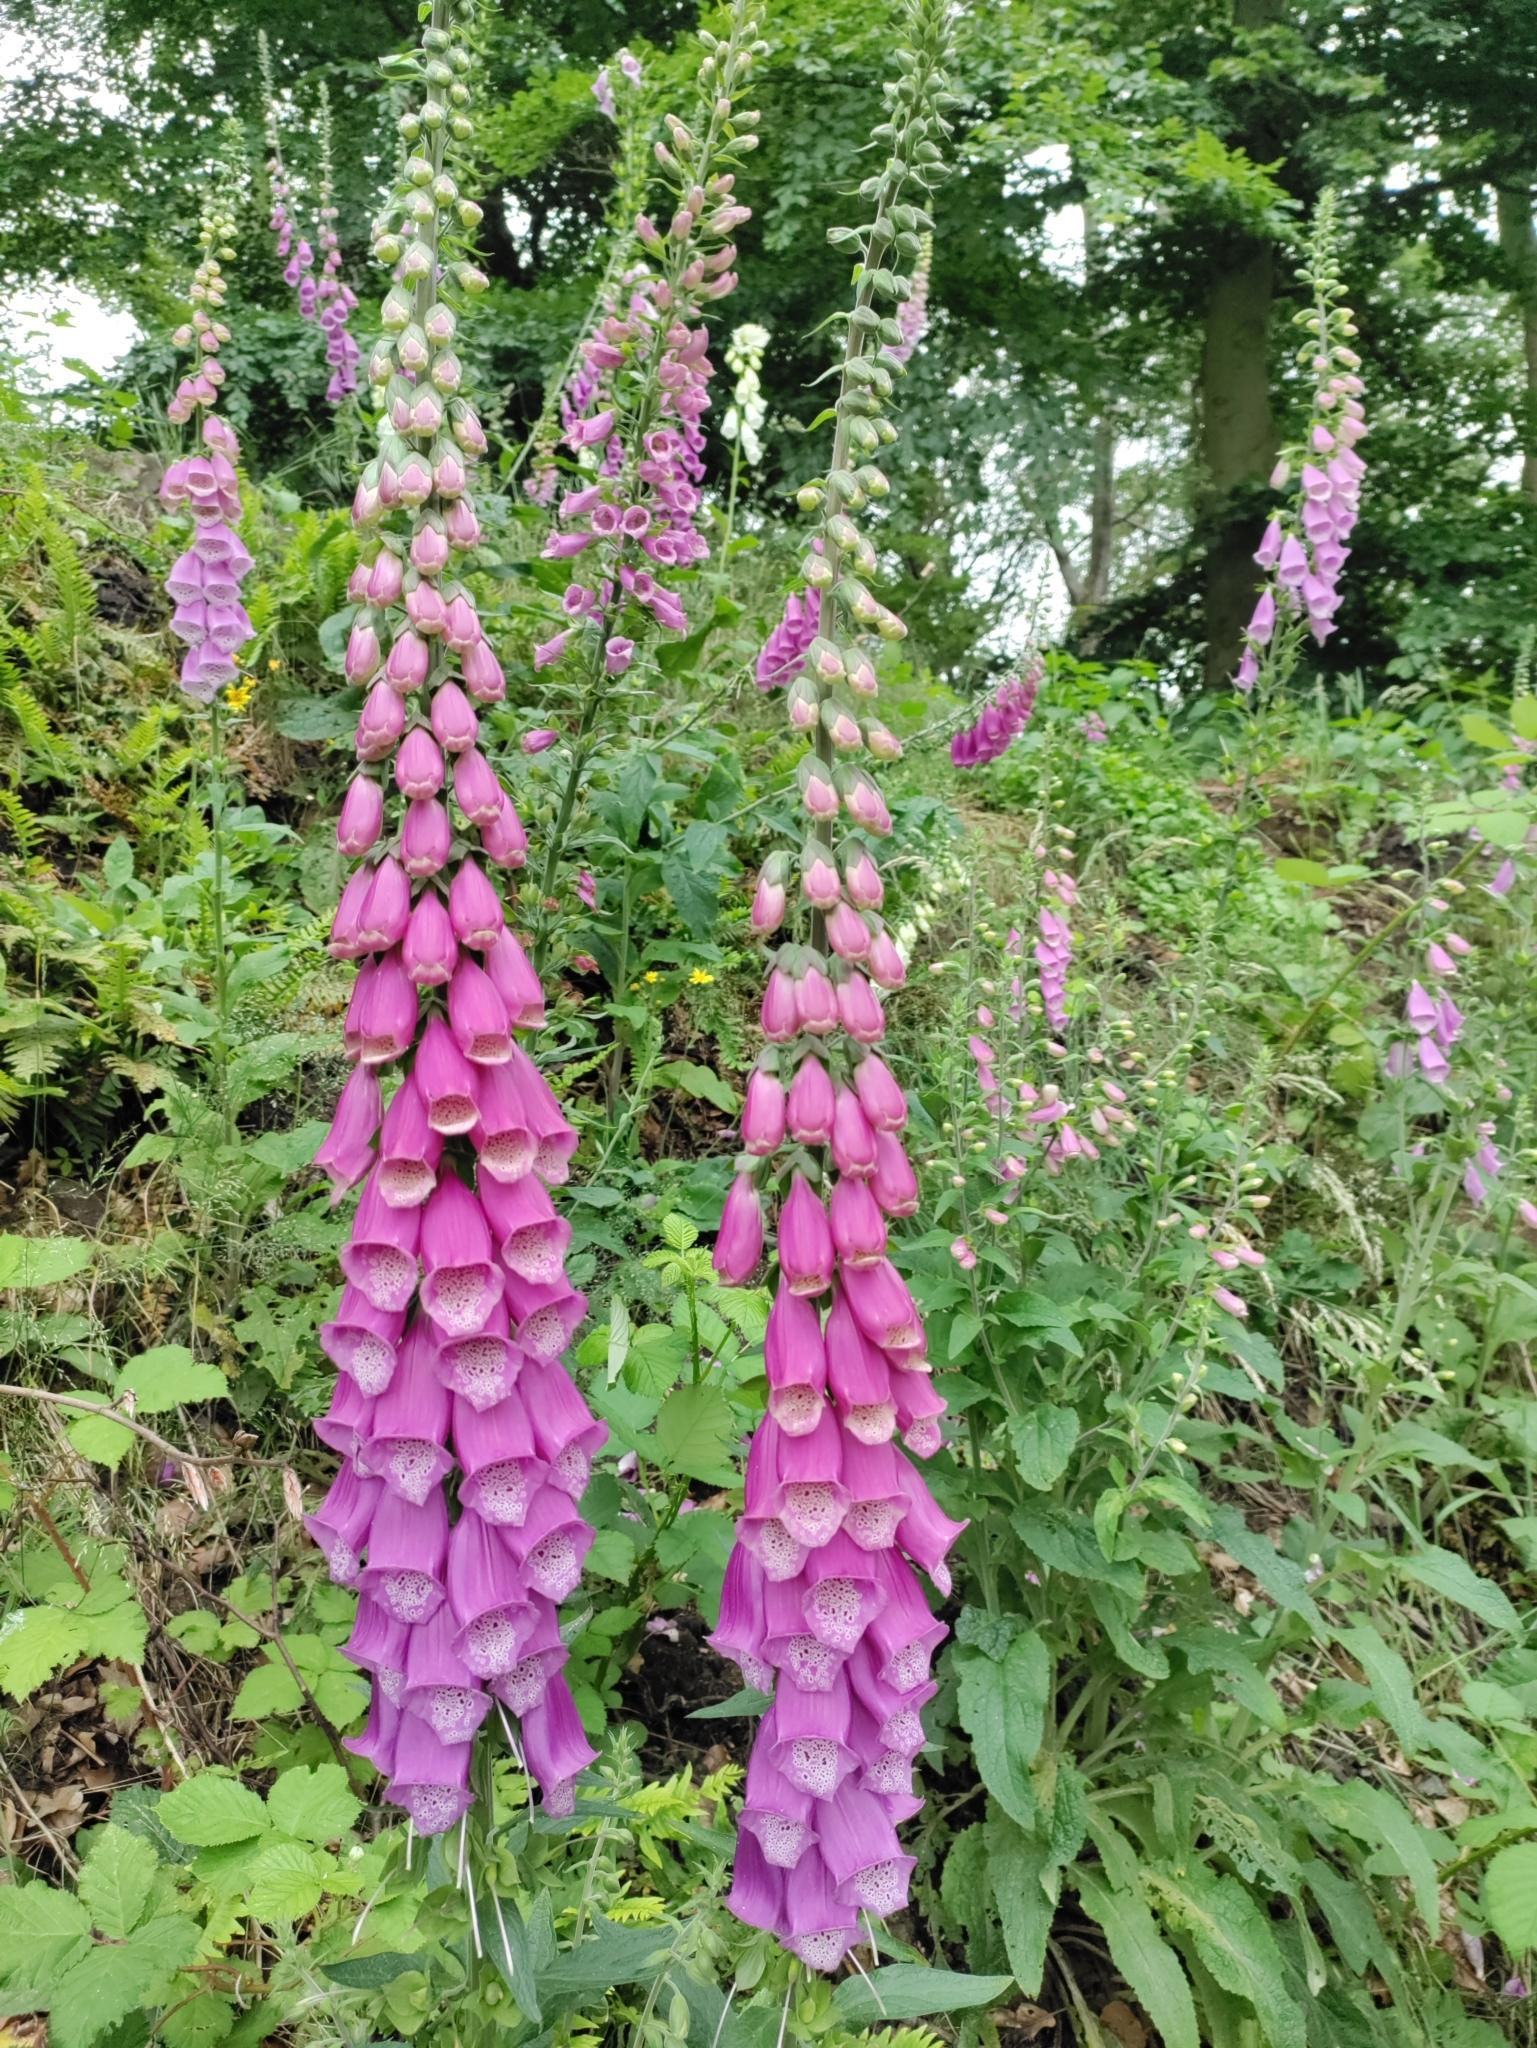Digitalis L: (654, 11, 1006, 2029), (302, 11, 630, 1992), (539, 36, 781, 1076), (115, 194, 279, 1260), (1198, 186, 1384, 836), (1326, 870, 1506, 1372)
